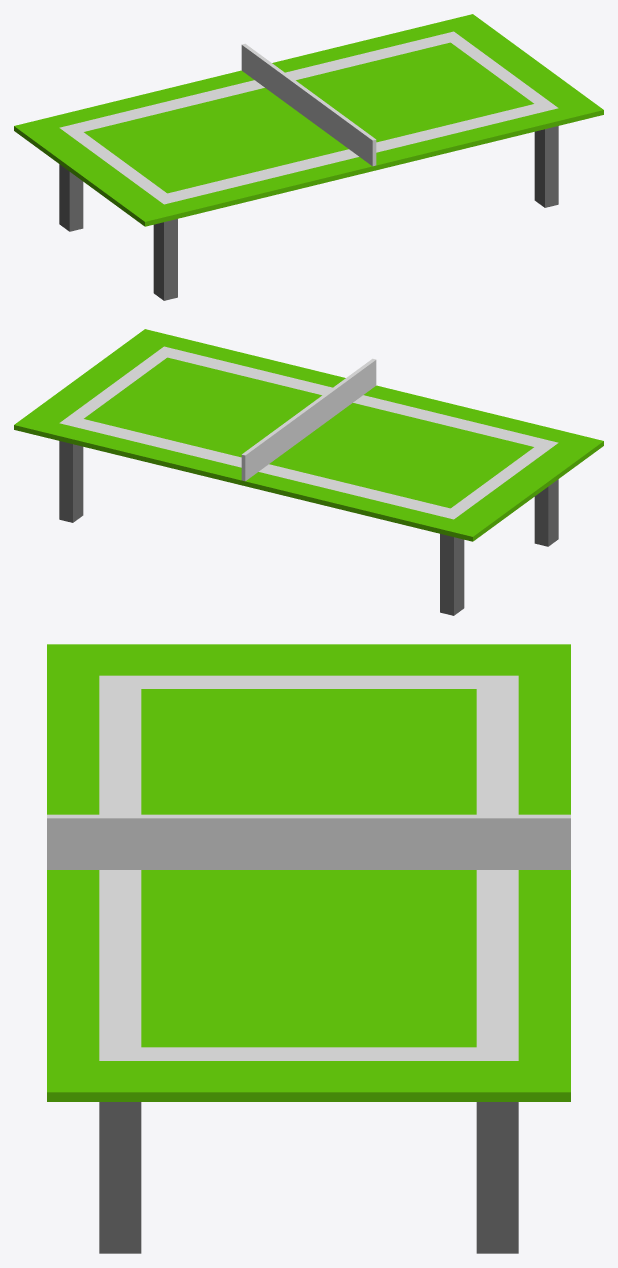
File: prp_pingpong.fbx
The picture shows the model from 3 angles, top to bottom: view 1: azimuth 30°, elevation 25°; view 2: azimuth 150°, elevation 25°; view 3: azimuth 270°, elevation 25°; orthographic projection. The views are drawn at different scales.
Visible parts, largest first — view 1: prp_pingpong; view 2: prp_pingpong; view 3: prp_pingpong.
Boxes of the visible parts, box(x1,y1,x2,y2) form: prp_pingpong: box(14, 14, 603, 300); prp_pingpong: box(14, 329, 603, 615); prp_pingpong: box(47, 644, 570, 1253).
Bounding box in the file's own units: 8.07 × 2.06 × 3.99.
